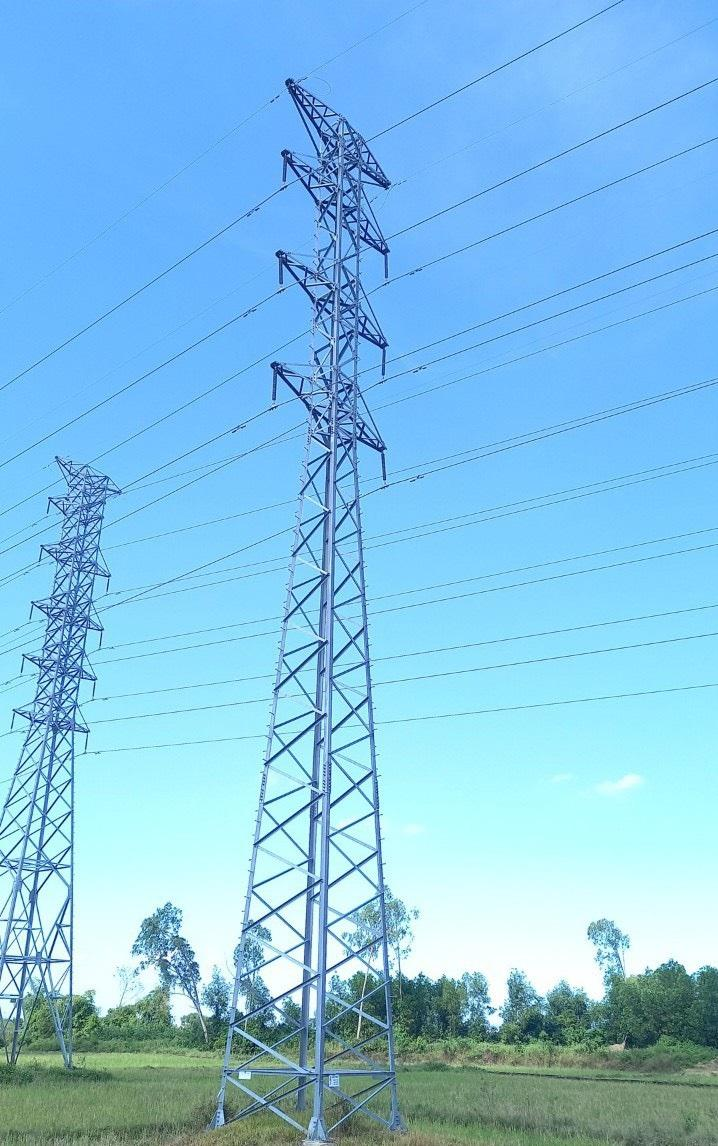power_tower: (262, 73, 395, 1122)
